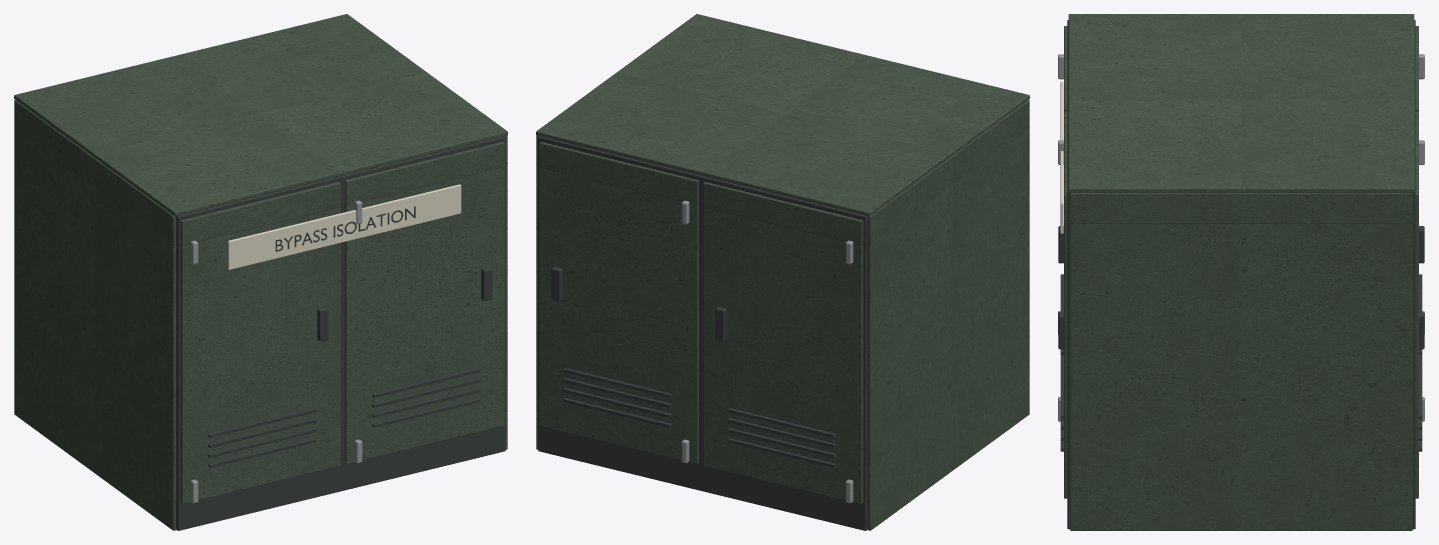
Rendered from transfer_cover_casing.glb.
3 views of the same model, side by side, from view 1: azimuth 30°, elevation 25°; view 2: azimuth 150°, elevation 25°; view 3: azimuth 270°, elevation 25° (orthographic). The views are drawn at different scales.
Parts seen in each view (by area): view 1: transfer_cover_casing / transfer_green_enamel, transfer_cover_casing / transfer_dark_steel, transfer_cover_casing / transfer_instrument_ivory, transfer_cover_casing / transfer_galvanized; view 2: transfer_cover_casing / transfer_green_enamel, transfer_cover_casing / transfer_dark_steel, transfer_cover_casing / transfer_galvanized; view 3: transfer_cover_casing / transfer_green_enamel, transfer_cover_casing / transfer_dark_steel, transfer_cover_casing / transfer_galvanized, transfer_cover_casing / transfer_instrument_ivory.
Part boxes in pixels (bbox=[...]): transfer_cover_casing / transfer_green_enamel: bbox=[14, 14, 507, 530]; transfer_cover_casing / transfer_dark_steel: bbox=[176, 136, 505, 530]; transfer_cover_casing / transfer_instrument_ivory: bbox=[228, 184, 461, 269]; transfer_cover_casing / transfer_galvanized: bbox=[190, 200, 362, 503]; transfer_cover_casing / transfer_green_enamel: bbox=[536, 14, 1029, 530]; transfer_cover_casing / transfer_dark_steel: bbox=[538, 136, 867, 530]; transfer_cover_casing / transfer_galvanized: bbox=[681, 200, 853, 503]; transfer_cover_casing / transfer_green_enamel: bbox=[1064, 14, 1418, 530]; transfer_cover_casing / transfer_dark_steel: bbox=[1058, 20, 1424, 529]; transfer_cover_casing / transfer_galvanized: bbox=[1058, 54, 1424, 421]; transfer_cover_casing / transfer_instrument_ivory: bbox=[1060, 81, 1063, 233].
Size of the model in its own units: 2.45 by 2.23 by 2.16.
Materials: 4 (1 with a texture image).
